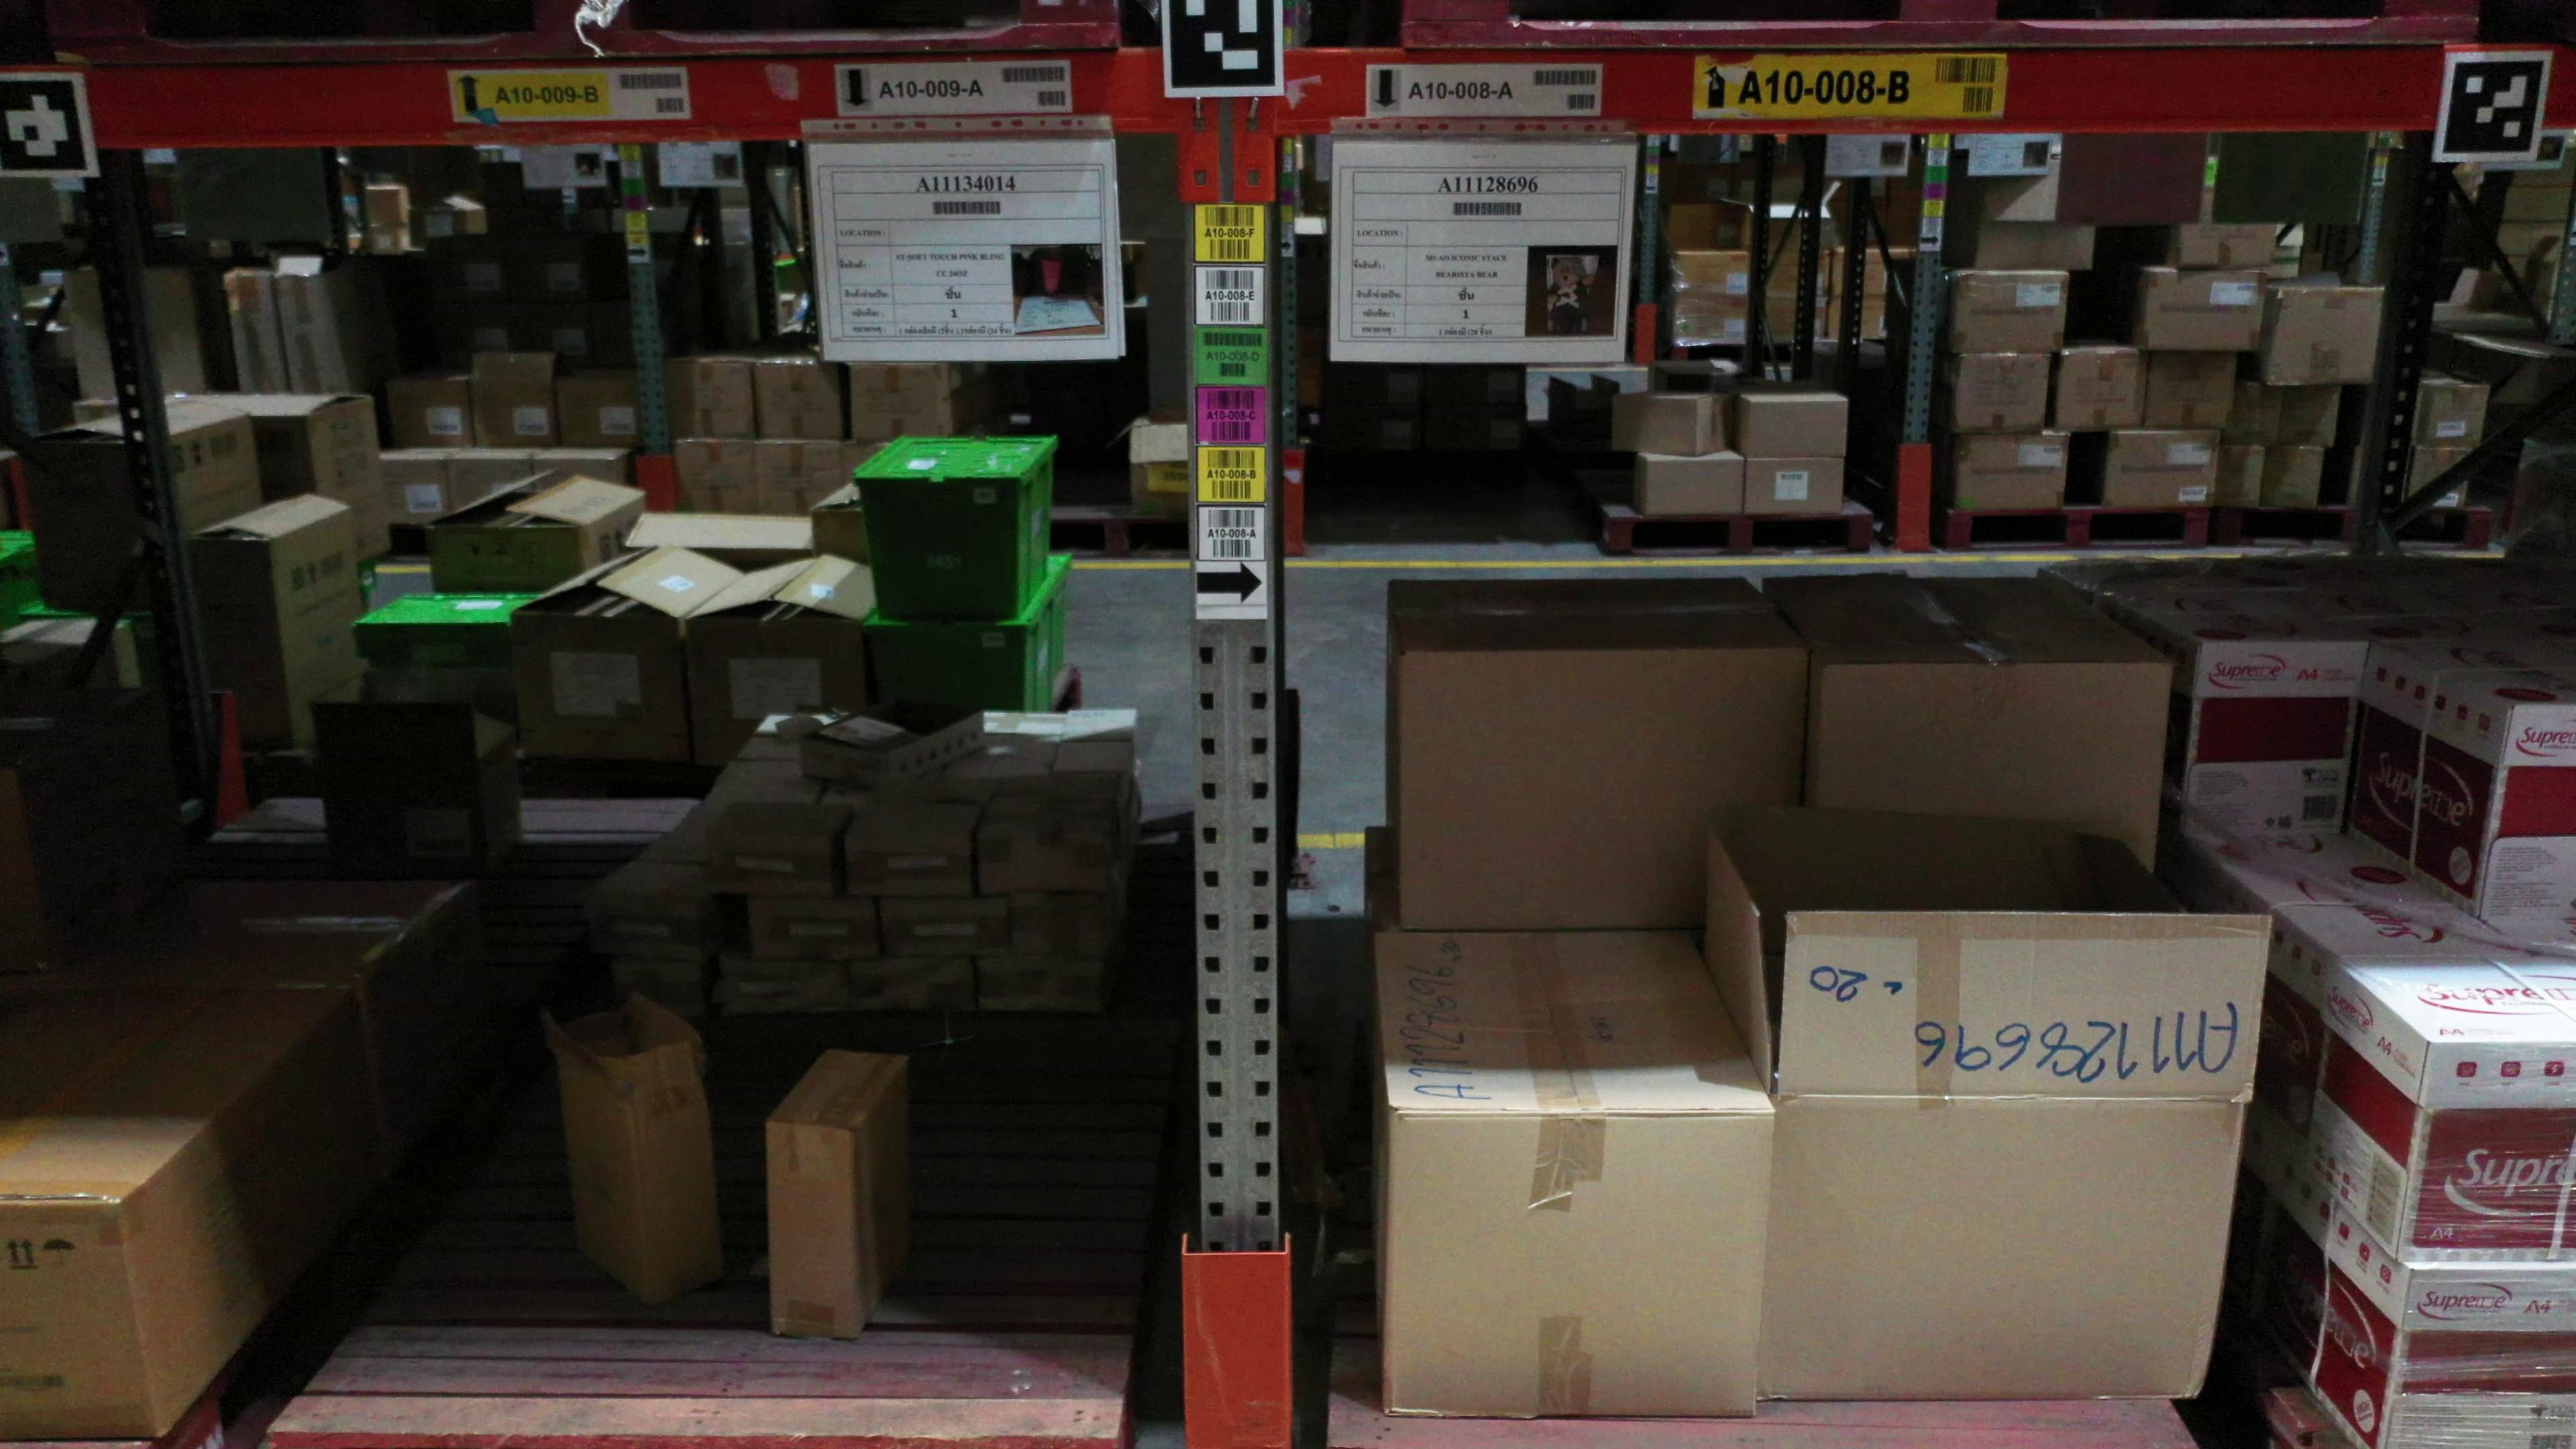-: (1762, 1093, 2243, 1405), (1382, 1109, 1782, 1417), (1399, 646, 1812, 934), (1808, 660, 2171, 879), (0, 1196, 166, 1449), (2396, 1042, 2576, 1269), (2180, 644, 2373, 832), (2383, 1269, 2576, 1449), (628, 1085, 725, 1304), (768, 1120, 856, 1346), (2480, 704, 2576, 913)
box: (318, 768, 487, 874), (743, 892, 878, 959), (589, 886, 708, 962), (975, 830, 1106, 895), (709, 832, 832, 897), (846, 837, 973, 899), (885, 897, 1014, 957), (846, 955, 978, 1010), (725, 957, 849, 1016), (975, 954, 1100, 1010), (1010, 893, 1106, 961), (801, 738, 888, 800), (614, 961, 701, 1016)
